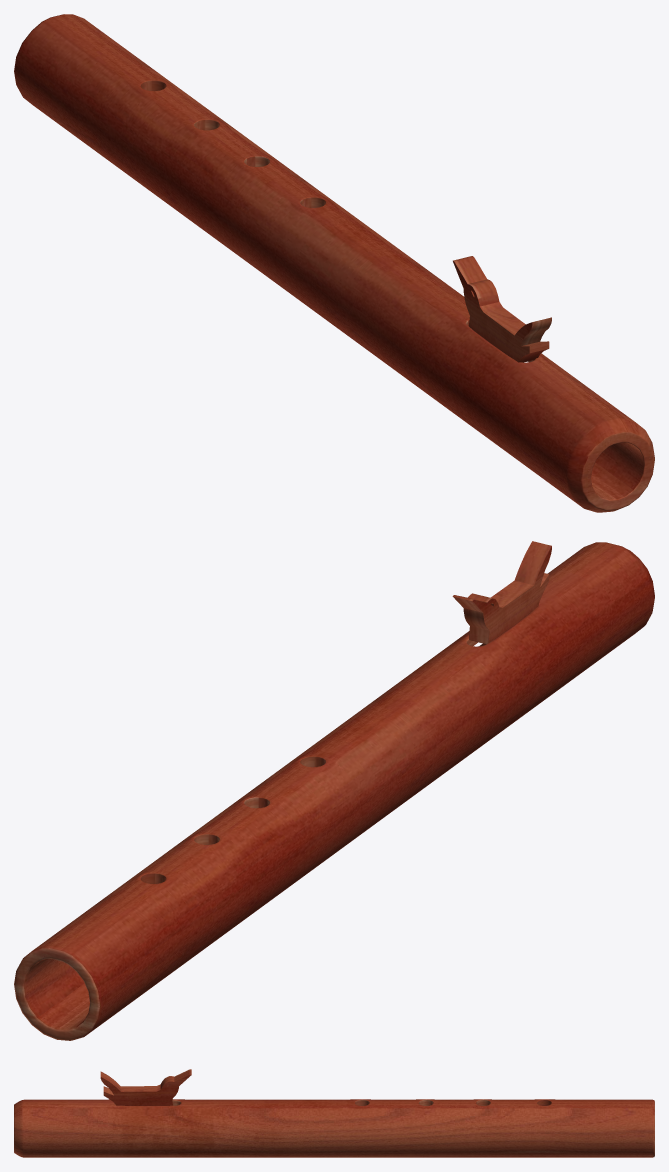
File: instrument-flute.glb
3 renders of one model, top to bottom at view 1: azimuth 30°, elevation 25°; view 2: azimuth 150°, elevation 25°; view 3: azimuth 270°, elevation 25°, orthographic. The views are drawn at different scales.
Visible parts, largest first — view 1: instrument_flute (×2); view 2: instrument_flute (×2); view 3: instrument_flute (×2).
Part boxes in pixels (left/top/right/bottom): instrument_flute (×2): left=14, top=14, right=654, bottom=512; instrument_flute (×2): left=14, top=541, right=654, bottom=1040; instrument_flute (×2): left=14, top=1069, right=654, bottom=1157.
Bounding box in the file's own units: 0.1434 × 0.2274 × 1.59.
Materials: 2 (2 with a texture image).
